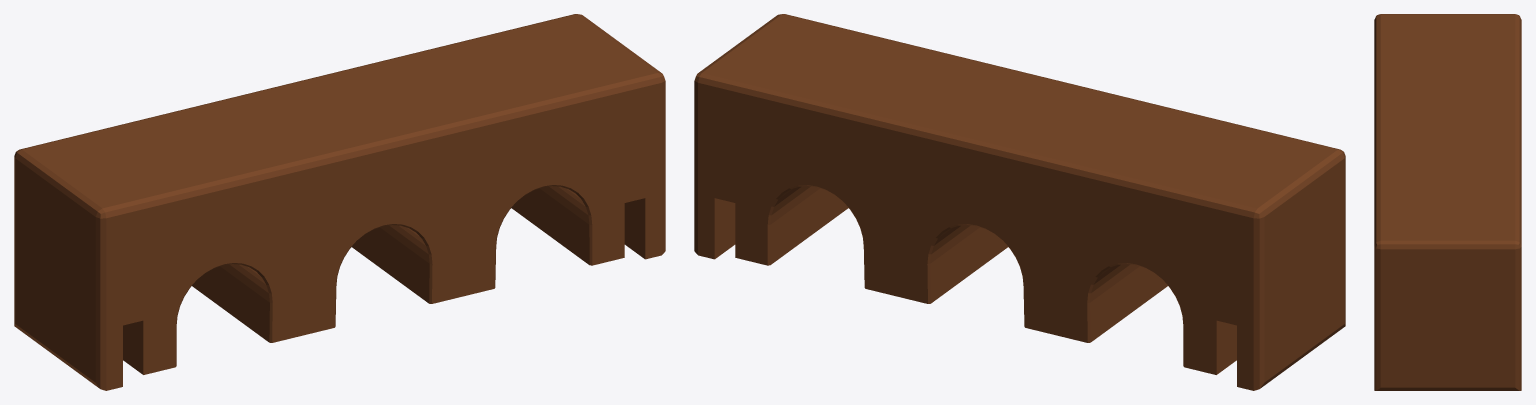
Rendered from minigolf_tunnel.glb.
The picture shows the model from 3 angles, left to right: view 1: azimuth 30°, elevation 25°; view 2: azimuth 150°, elevation 25°; view 3: azimuth 270°, elevation 25°; orthographic projection. The views are drawn at different scales.
Parts seen in each view (by area): view 1: Tunnel Bridge; view 2: Tunnel Bridge; view 3: Tunnel Bridge.
Boxes of the visible parts, bbox=[...] form: Tunnel Bridge: bbox=[14, 14, 665, 390]; Tunnel Bridge: bbox=[694, 14, 1345, 390]; Tunnel Bridge: bbox=[1374, 14, 1521, 390].
Size of the model in its own units: 1.63 by 0.4932 by 0.4388.
